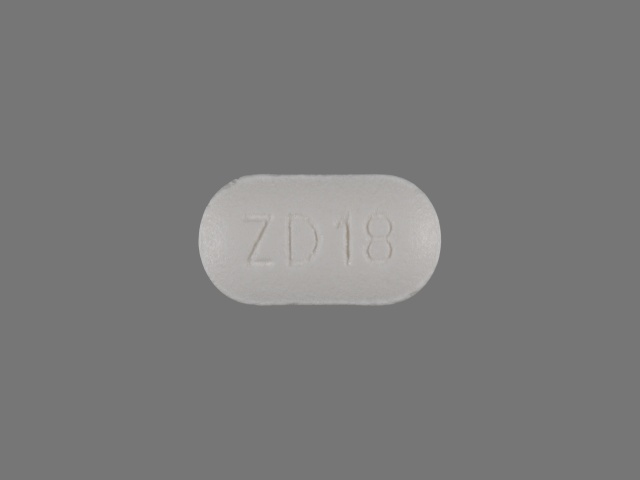1: (331, 212, 358, 265)
8: (361, 211, 398, 267)
D: (280, 210, 322, 270)
Z: (238, 211, 279, 270)
